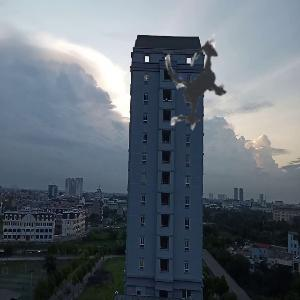drone: (115, 2, 284, 171)
